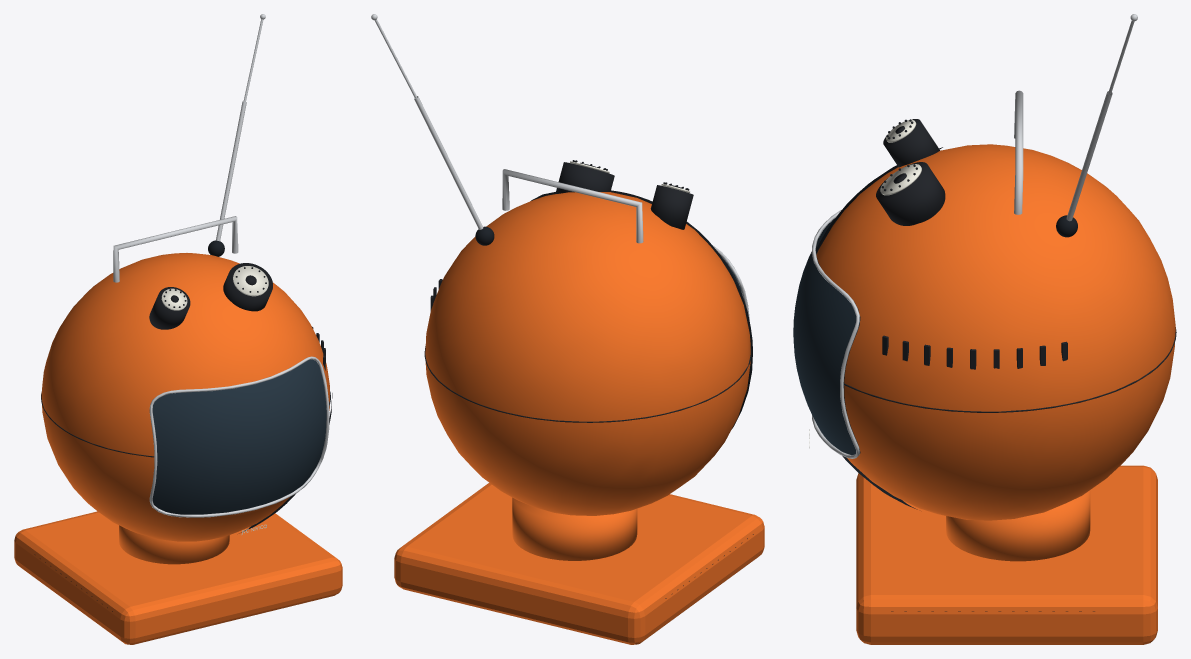
File: jvc-videosphere-recreation-v52.glb
3 renders of one model, left to right at view 1: azimuth 30°, elevation 25°; view 2: azimuth 150°, elevation 25°; view 3: azimuth 270°, elevation 25°, orthographic. The views are drawn at different scales.
Visible parts, largest first — view 1: Spherical moulded orange cabinet, Square orange pedestal, Videosphere curved CRT, Orange support neck, Silver CRT perimeter trim, Chrome carrying loop, Black top tuning dial.001, Black top tuning dial, Ivory tuning scale.001, Telescopic antenna lower; view 2: Spherical moulded orange cabinet, Square orange pedestal, Orange support neck, Chrome carrying loop, Black top tuning dial, Black top tuning dial.001, Telescopic antenna lower, Black wraparound front visor, Cabinet seam; view 3: Spherical moulded orange cabinet, Square orange pedestal, Videosphere curved CRT, Orange support neck, Black top tuning dial.001, Silver CRT perimeter trim, Black top tuning dial, Chrome carrying loop, Telescopic antenna lower, Cabinet seam, Ivory tuning scale.001, Black wraparound front visor.
Boxes of the visible parts, <box> form: Spherical moulded orange cabinet: <box>41,253,329,541</box>; Square orange pedestal: <box>14,511,342,644</box>; Videosphere curved CRT: <box>152,359,326,514</box>; Orange support neck: <box>119,525,229,564</box>; Silver CRT perimeter trim: <box>149,356,329,517</box>; Chrome carrying loop: <box>113,216,238,282</box>; Black top tuning dial.001: <box>223,263,272,311</box>; Black top tuning dial: <box>149,287,190,329</box>; Ivory tuning scale.001: <box>233,266,268,296</box>; Telescopic antenna lower: <box>216,101,246,241</box>; Spherical moulded orange cabinet: <box>425,192,750,515</box>; Square orange pedestal: <box>394,482,764,644</box>; Orange support neck: <box>512,497,637,560</box>; Chrome carrying loop: <box>502,169,643,243</box>; Black top tuning dial: <box>650,185,693,229</box>; Black top tuning dial.001: <box>555,162,614,193</box>; Telescopic antenna lower: <box>414,96,483,229</box>; Black wraparound front visor: <box>531,190,752,429</box>; Cabinet seam: <box>424,346,751,422</box>; Spherical moulded orange cabinet: <box>816,144,1175,520</box>; Square orange pedestal: <box>856,465,1157,644</box>; Videosphere curved CRT: <box>793,218,860,455</box>; Orange support neck: <box>946,490,1090,561</box>; Black top tuning dial.001: <box>876,162,945,225</box>; Silver CRT perimeter trim: <box>811,210,859,458</box>; Black top tuning dial: <box>883,119,939,167</box>; Chrome carrying loop: <box>1014,90,1023,214</box>; Telescopic antenna lower: <box>1066,91,1112,221</box>; Cabinet seam: <box>844,327,1176,412</box>; Ivory tuning scale.001: <box>880,164,921,195</box>; Black wraparound front visor: <box>816,147,942,509</box>.
Size of the model in its own units: 0.252 by 0.46 by 0.2458.
